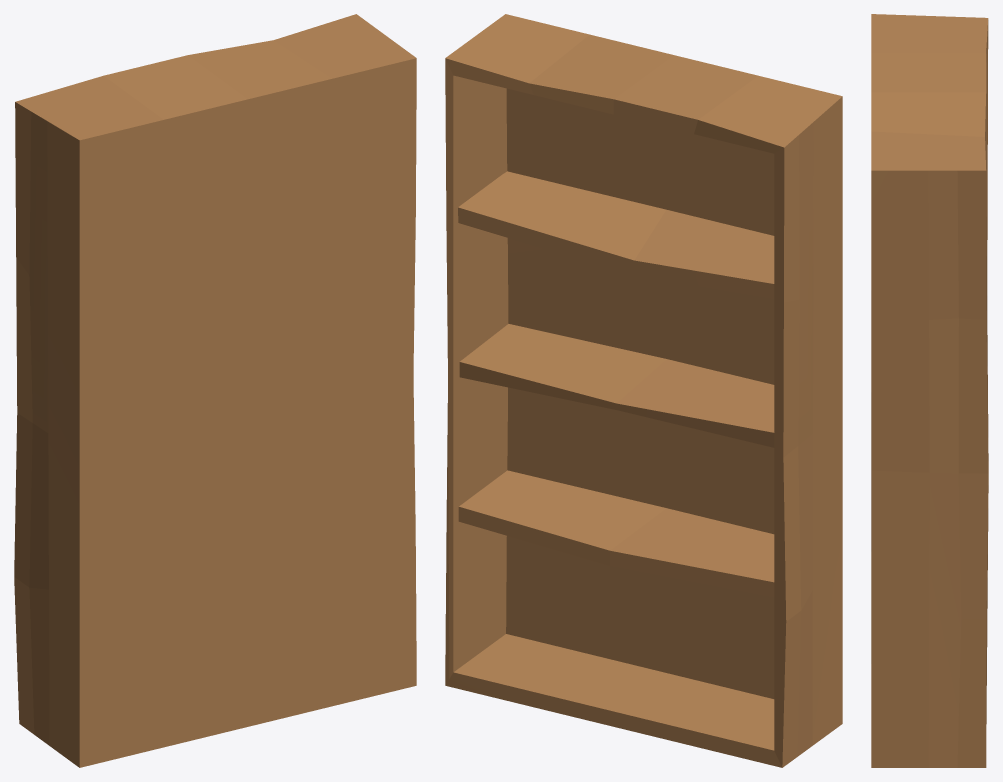
The model's file is bookshelf.glb.
The picture shows the model from 3 angles, left to right: view 1: azimuth 30°, elevation 25°; view 2: azimuth 150°, elevation 25°; view 3: azimuth 270°, elevation 25°; orthographic projection. The views are drawn at different scales.
Parts seen in each view (by area): view 1: Shelf; view 2: Shelf; view 3: Shelf.
Part boxes in pixels (x1,y1,x2,y2): Shelf: [14, 14, 416, 767]; Shelf: [445, 14, 842, 767]; Shelf: [871, 14, 988, 767].
Bounding box in the file's own units: 1.23 × 2.16 × 0.3852.
